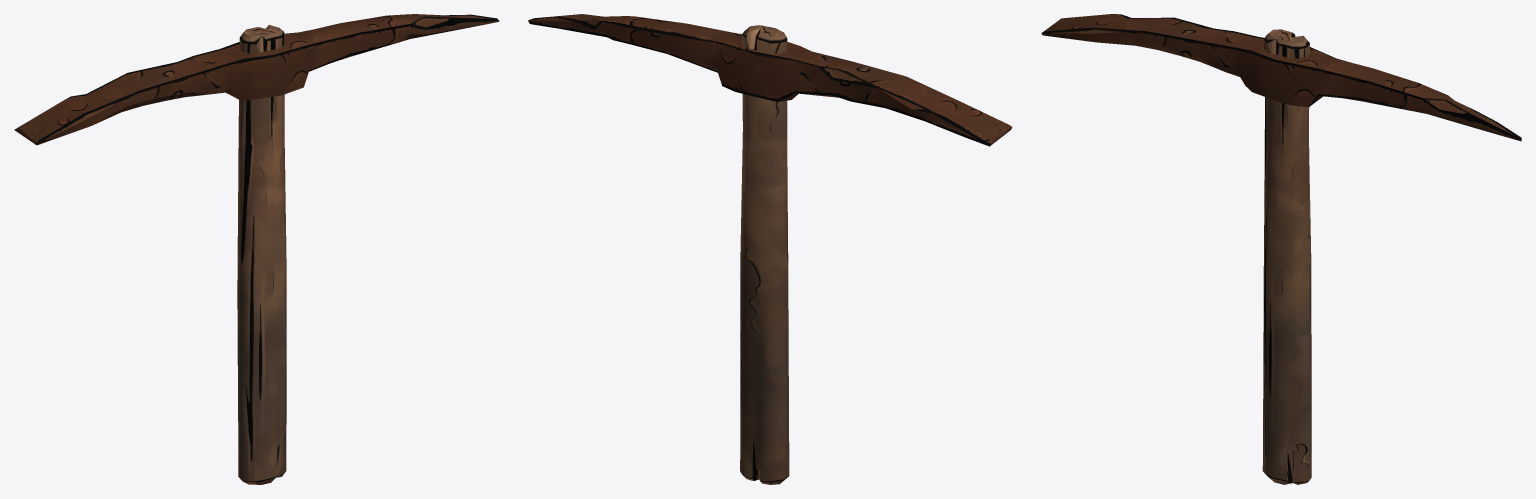
The model's file is Pickaxe_01.fbx.
3 renders of one model, left to right at view 1: azimuth 30°, elevation 25°; view 2: azimuth 150°, elevation 25°; view 3: azimuth 330°, elevation 25°, orthographic.
Parts seen in each view (by area): view 1: Pickaxe; view 2: Pickaxe; view 3: Pickaxe.
Boxes of the visible parts, left/top/right/bottom form: Pickaxe: left=14, top=14, right=499, bottom=484; Pickaxe: left=528, top=14, right=1012, bottom=484; Pickaxe: left=1041, top=14, right=1521, bottom=484.
Bounding box in the file's own units: 0.7159 × 0.648 × 0.0624.
